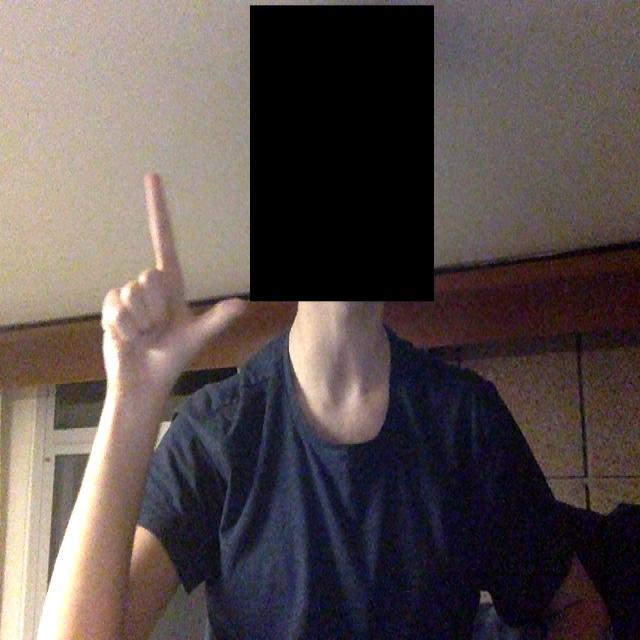L: (66, 127, 262, 430)
